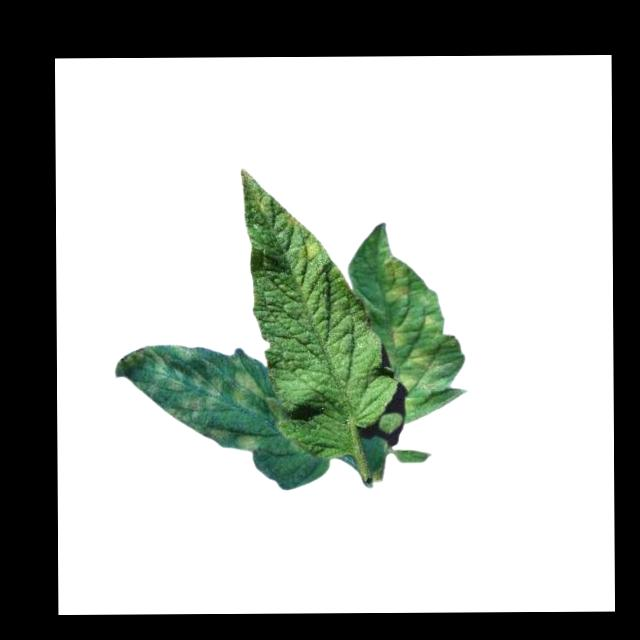Leaf_Mold: (115, 340, 286, 453), (382, 249, 444, 392), (300, 239, 324, 262)
